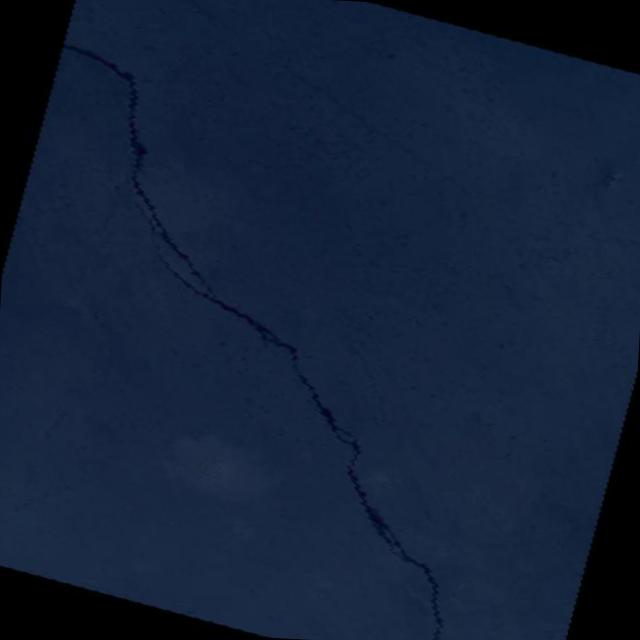crack: (0, 38, 593, 640)
